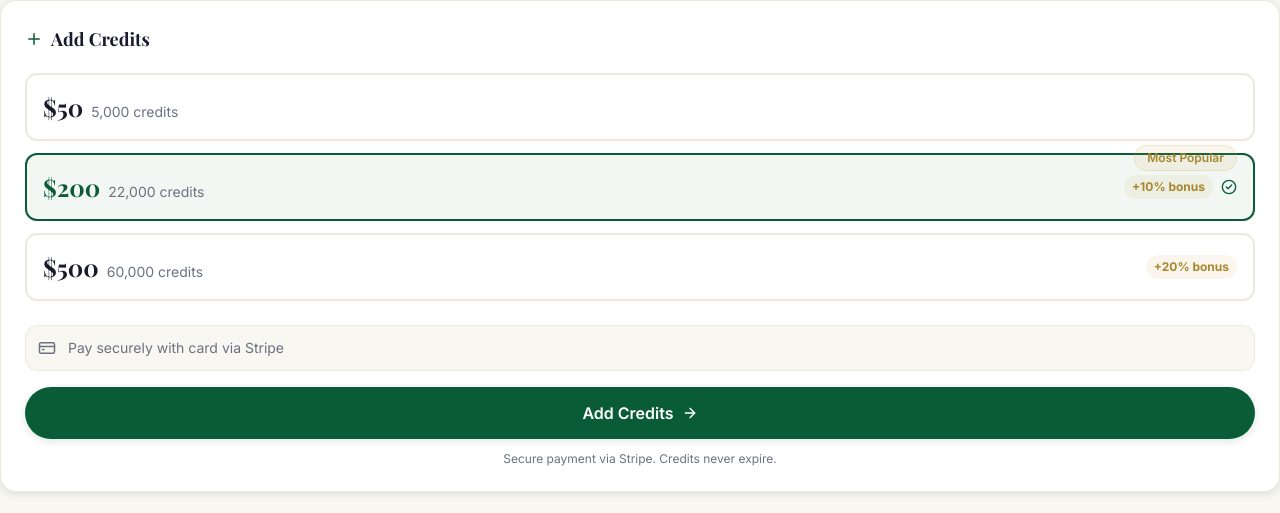
Test case: AddCreditsForm › TC-C-035: shows loading state while checkout request is in flight
What coordinates should you click on to do the following:
click the button "Add Credits"
I would click on:
 (640, 413)
Its box is left=25, top=387, right=1255, bottom=439.
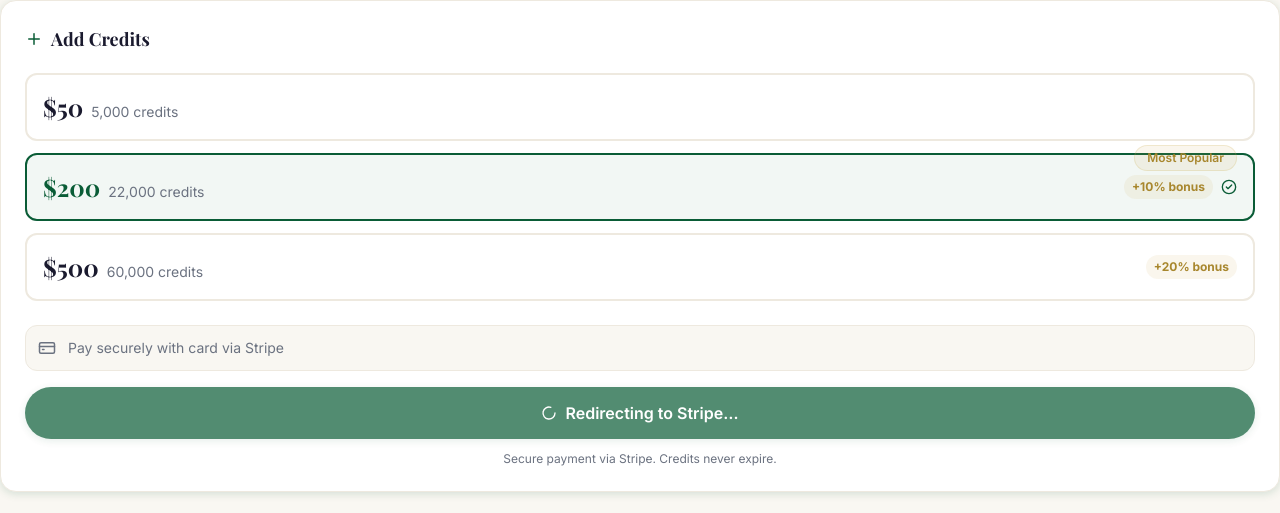
Expected: the button "Redirecting to Stripe…" is shown, left=25, top=387, right=1255, bottom=439
